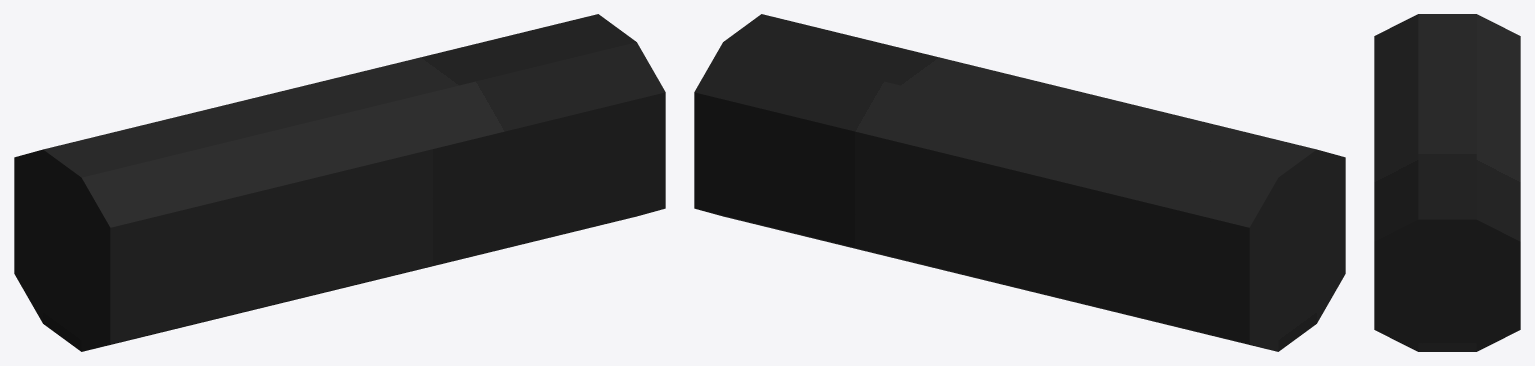
Rendered from ar_suppressor.obj.
3 views of the same model, side by side, from view 1: azimuth 30°, elevation 25°; view 2: azimuth 150°, elevation 25°; view 3: azimuth 270°, elevation 25° (orthographic). The views are drawn at different scales.
Parts seen in each view (by area): view 1: suppressor_1, suppressor, suppressor_2; view 2: suppressor_2, suppressor, suppressor_1; view 3: suppressor, suppressor_1, suppressor_2.
Boxes of the visible parts, box(x1,y1,x2,y2) form: suppressor_1: box(81, 42, 665, 351); suppressor: box(43, 14, 636, 351); suppressor_2: box(14, 149, 42, 322); suppressor_2: box(694, 42, 1278, 351); suppressor: box(723, 14, 1316, 351); suppressor_1: box(1317, 149, 1345, 322); suppressor: box(1418, 14, 1476, 351); suppressor_1: box(1374, 14, 1418, 351); suppressor_2: box(1476, 14, 1520, 351).
Size of the model in its own units: 5 by 1.5 by 1.5.
